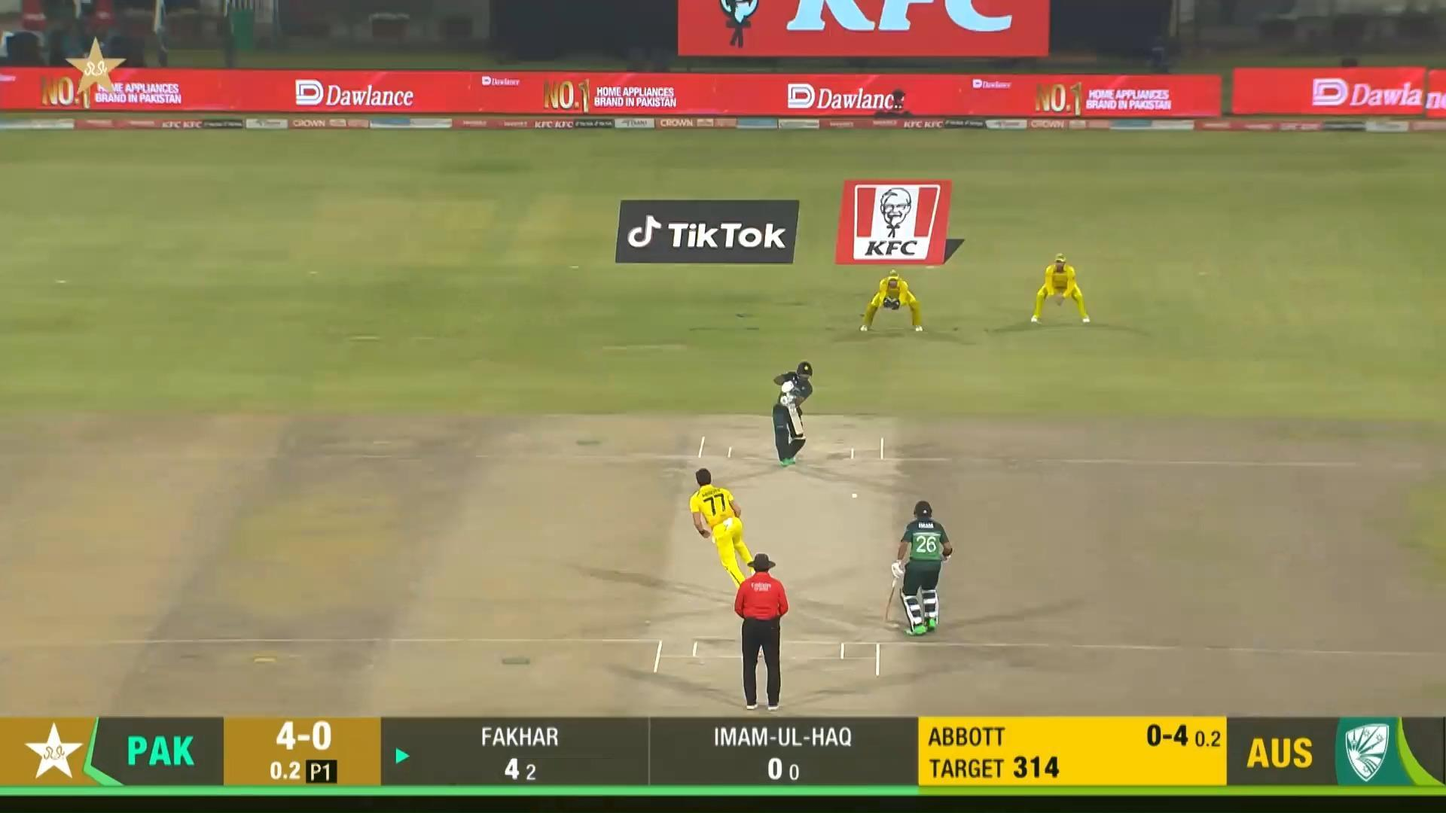BM 1: (772, 361, 814, 466)
BO: (689, 467, 757, 588)
